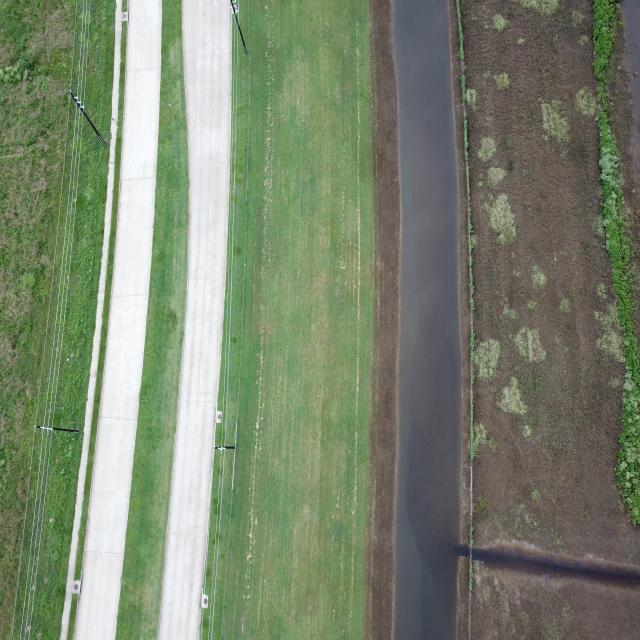fire: (393, 0, 461, 640), (472, 548, 640, 582), (455, 545, 471, 557)
